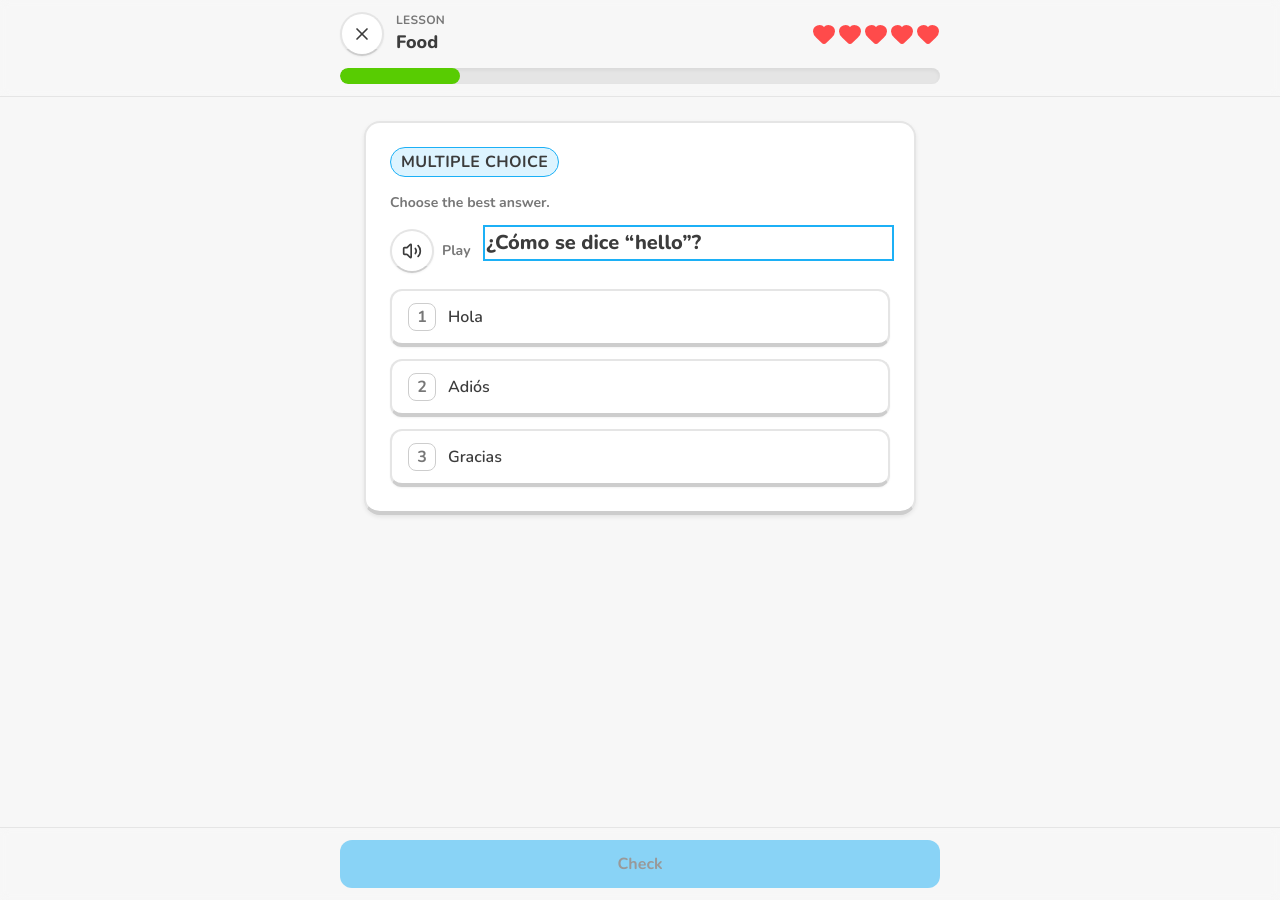
Test: LessonPlayer five-exercise journey › prevents duplicate Check while submitting
The width and height of the screenshot is (1280, 900).
Expected: the heading "¿Cómo se dice “hello”?" is shown, 486,229 -> 701,256
Click the radio button labelled "Hola" at x=465, y=317, box 390,289 -> 890,347
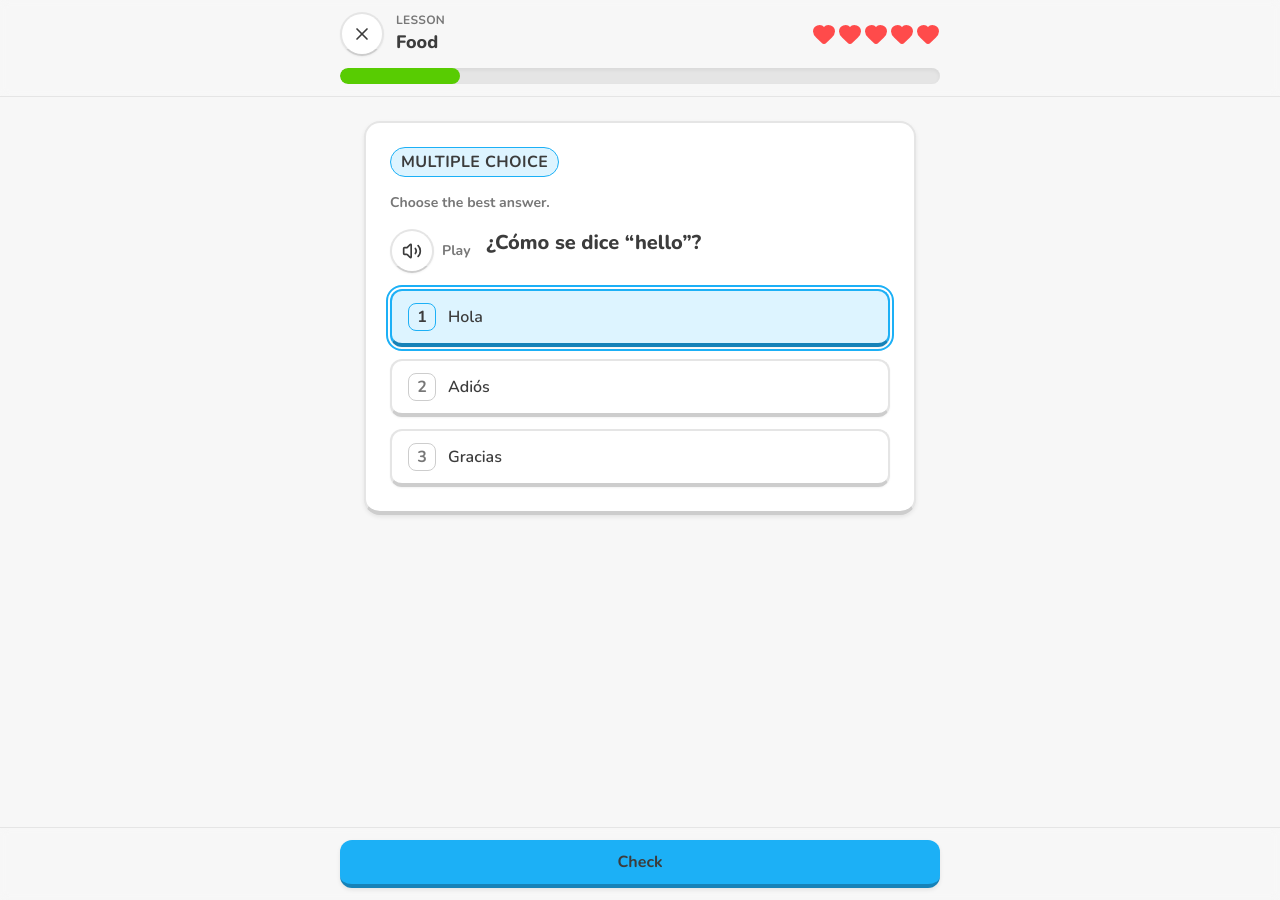
Click the button "Check" at x=640, y=864, box 340,840 -> 940,888
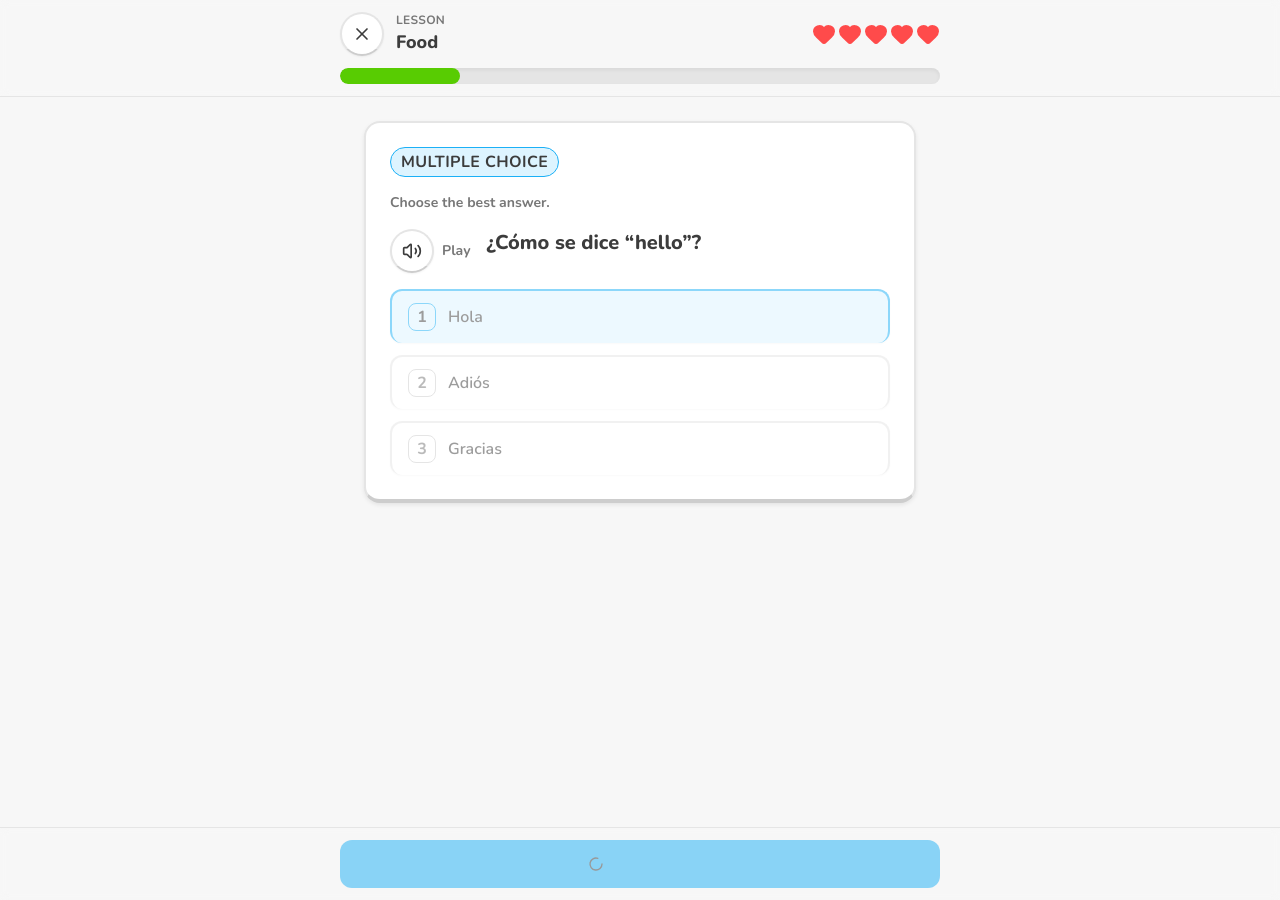
Click the button named "Check" at x=640, y=864, box 340,840 -> 940,888
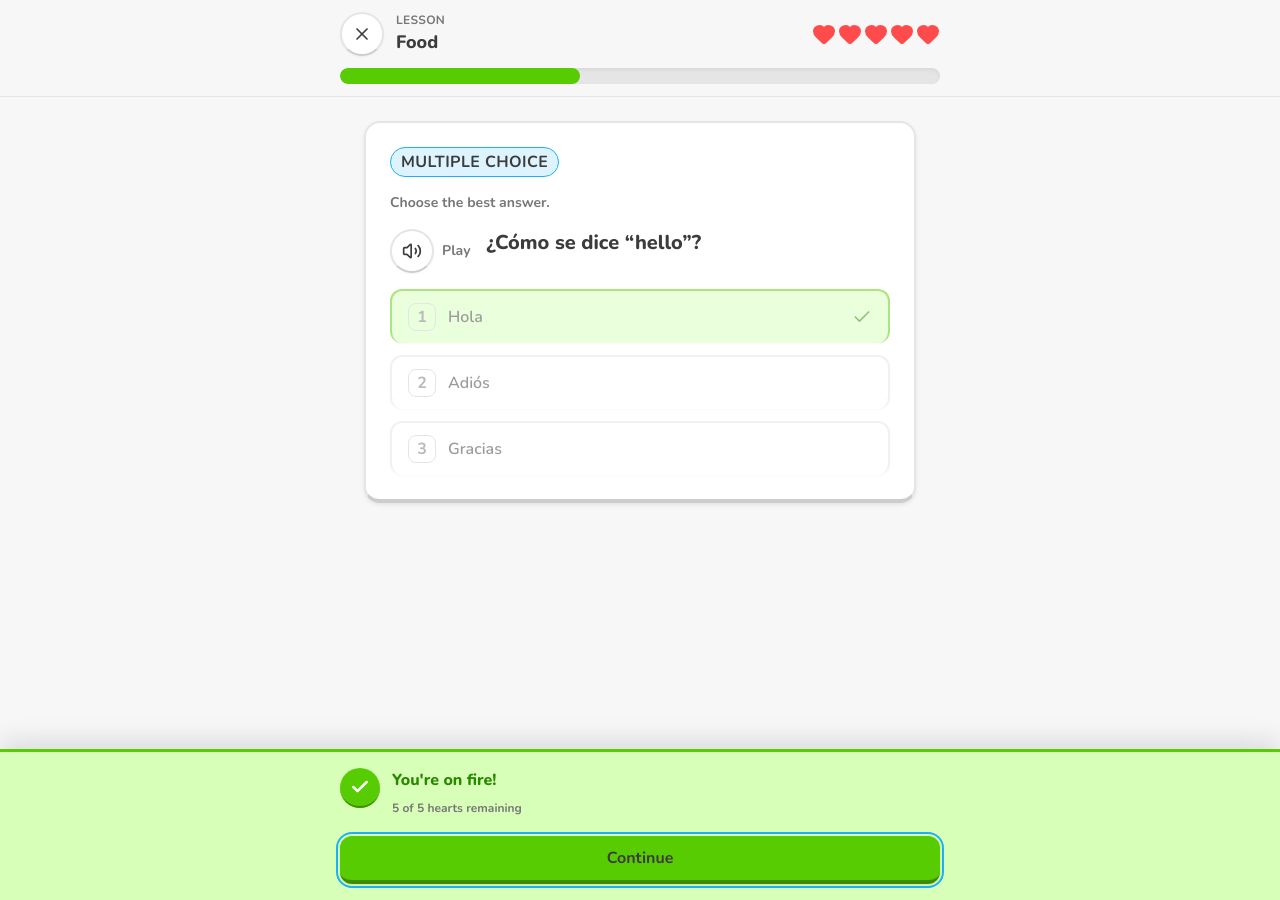
Now the button "Continue" is shown, box 340,836 -> 940,884
